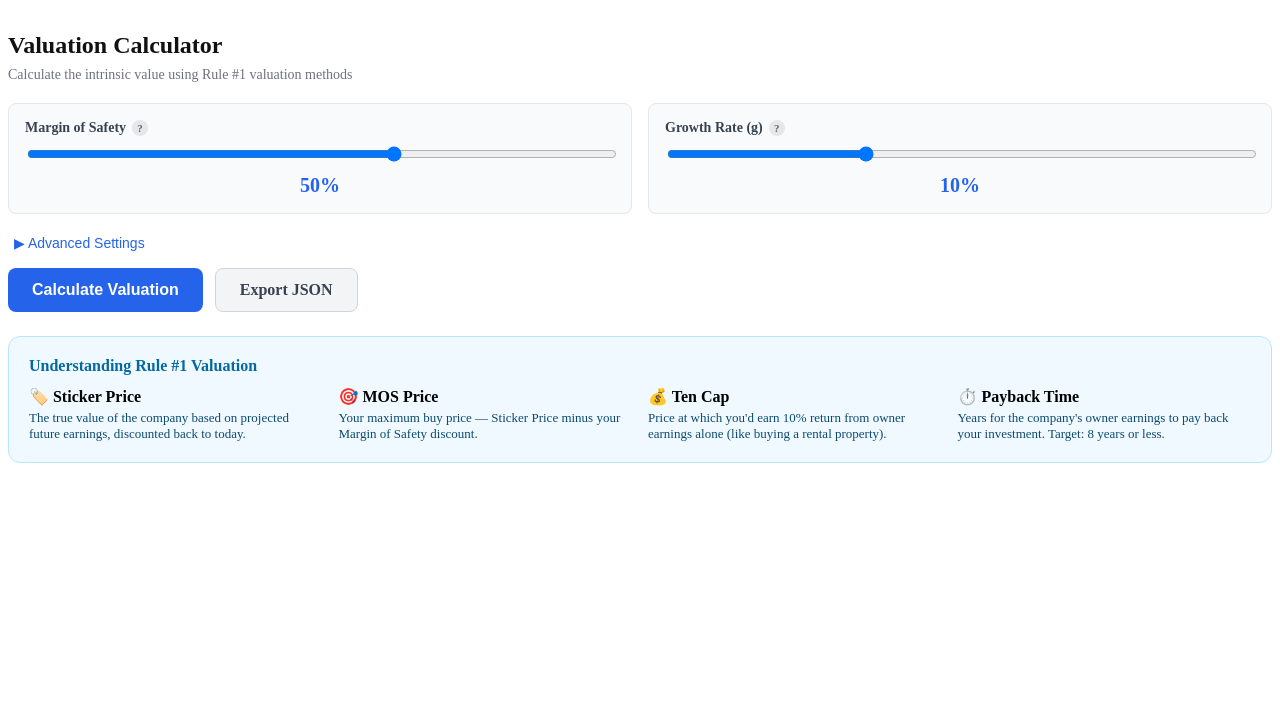
it: ValuationPanel › Valuation Calculation › displays formatted sticker price
Click the button "Calculate Valuation" at (105, 290), box [8,268,203,312]
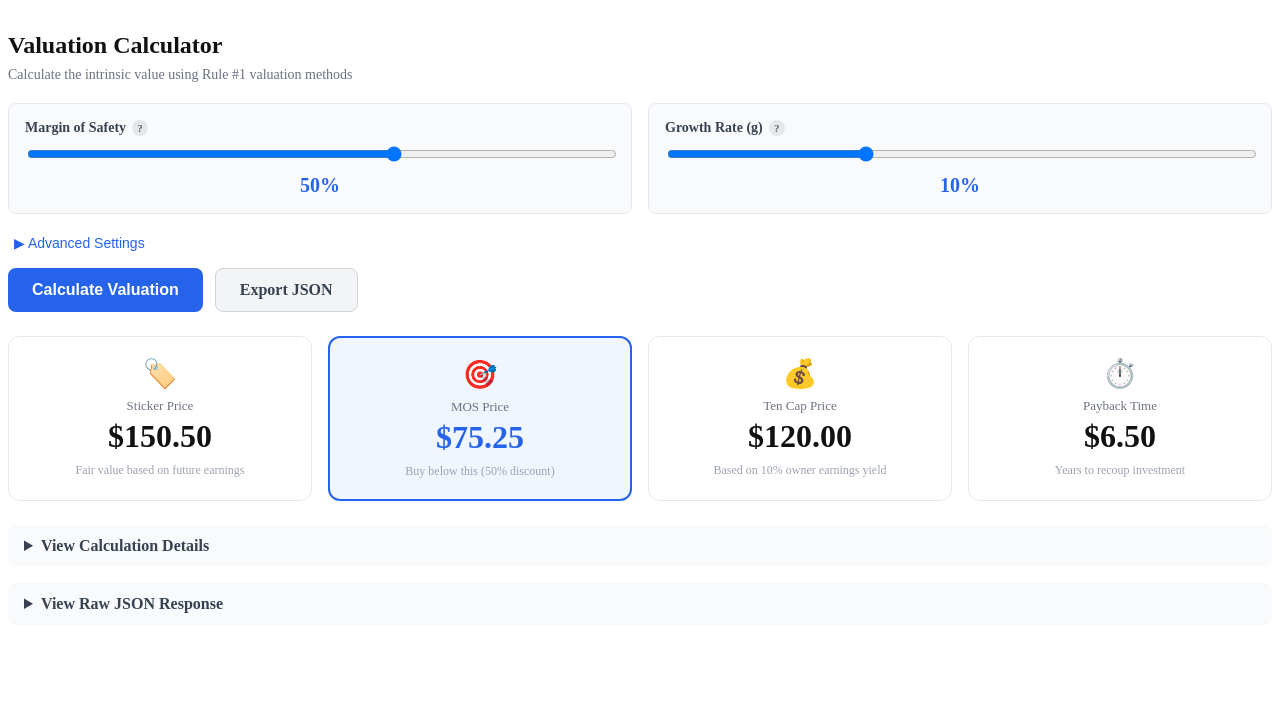
Result: the text "$150.50" is shown at [108,418,212,454]
